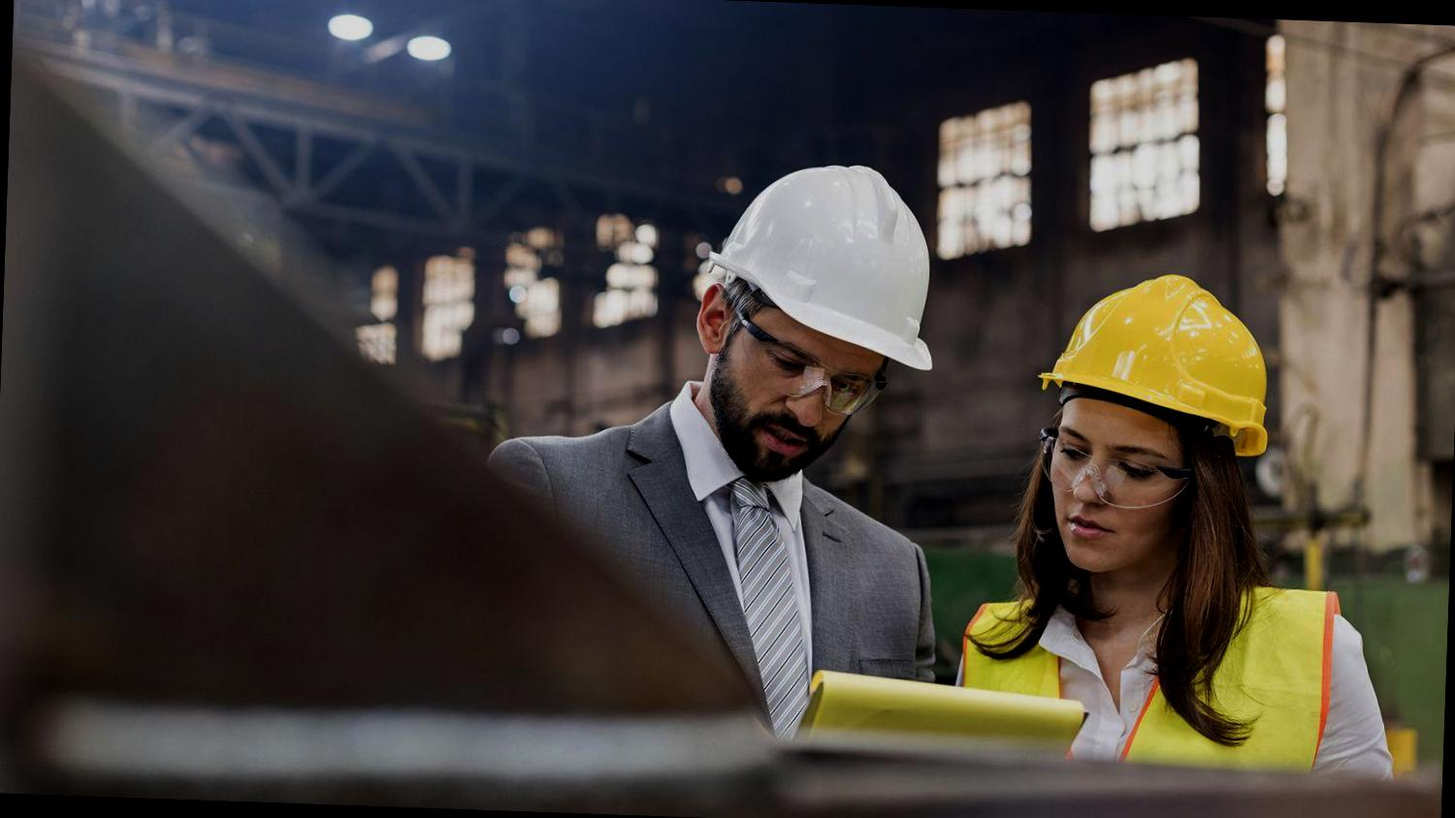helmet: (679, 151, 959, 376), (1016, 255, 1299, 464)
no_vest: (508, 422, 939, 749)
person: (508, 114, 955, 717), (954, 265, 1384, 786)
